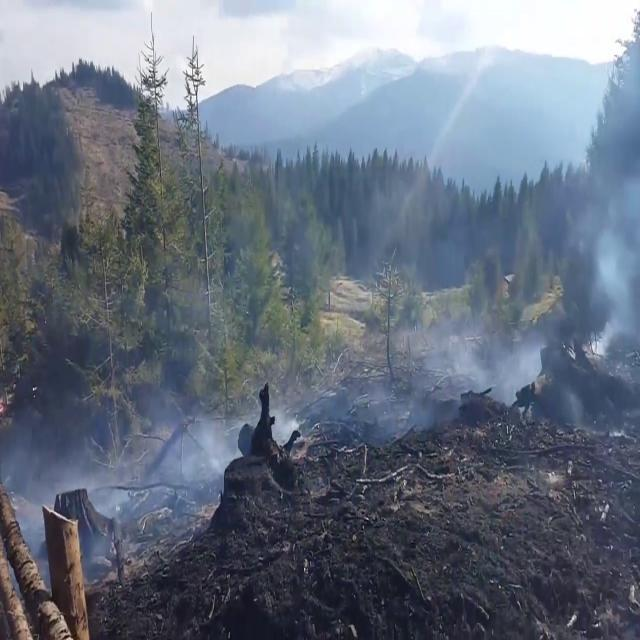Smoke: (284, 130, 552, 436), (4, 338, 237, 568), (572, 2, 640, 370)
